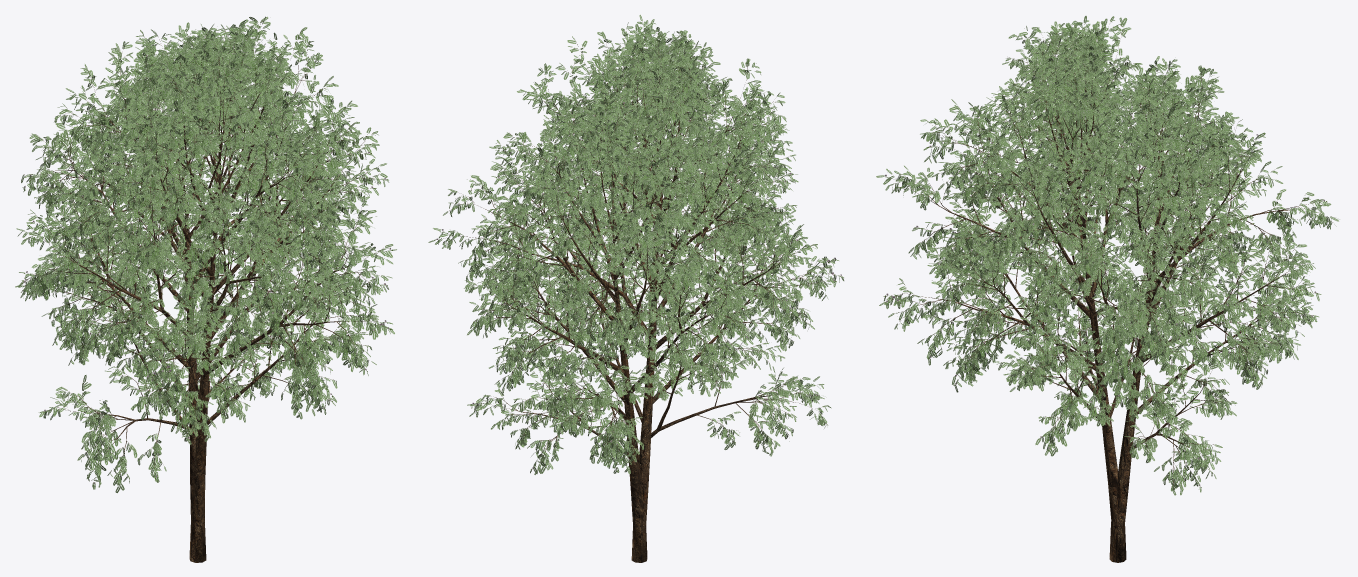
Rendered from tree.fbx.
The picture shows the model from 3 angles, left to right: view 1: azimuth 30°, elevation 25°; view 2: azimuth 150°, elevation 25°; view 3: azimuth 270°, elevation 25°; orthographic projection. The views are drawn at different scales.
Visible parts, largest first — view 1: leaves, tree; view 2: leaves, tree; view 3: leaves, tree.
Boxes of the visible parts, x1=… form: leaves: x1=15, y1=16, x2=396, y2=492; tree: x1=24, y1=21, x2=386, y2=562; leaves: x1=428, y1=14, x2=844, y2=474; tree: x1=441, y1=23, x2=829, y2=562; leaves: x1=876, y1=16, x2=1339, y2=495; tree: x1=887, y1=24, x2=1334, y2=562.
Bounding box in the file's own units: 1688 × 2377 × 1889.
4 materials, 4 textured.
